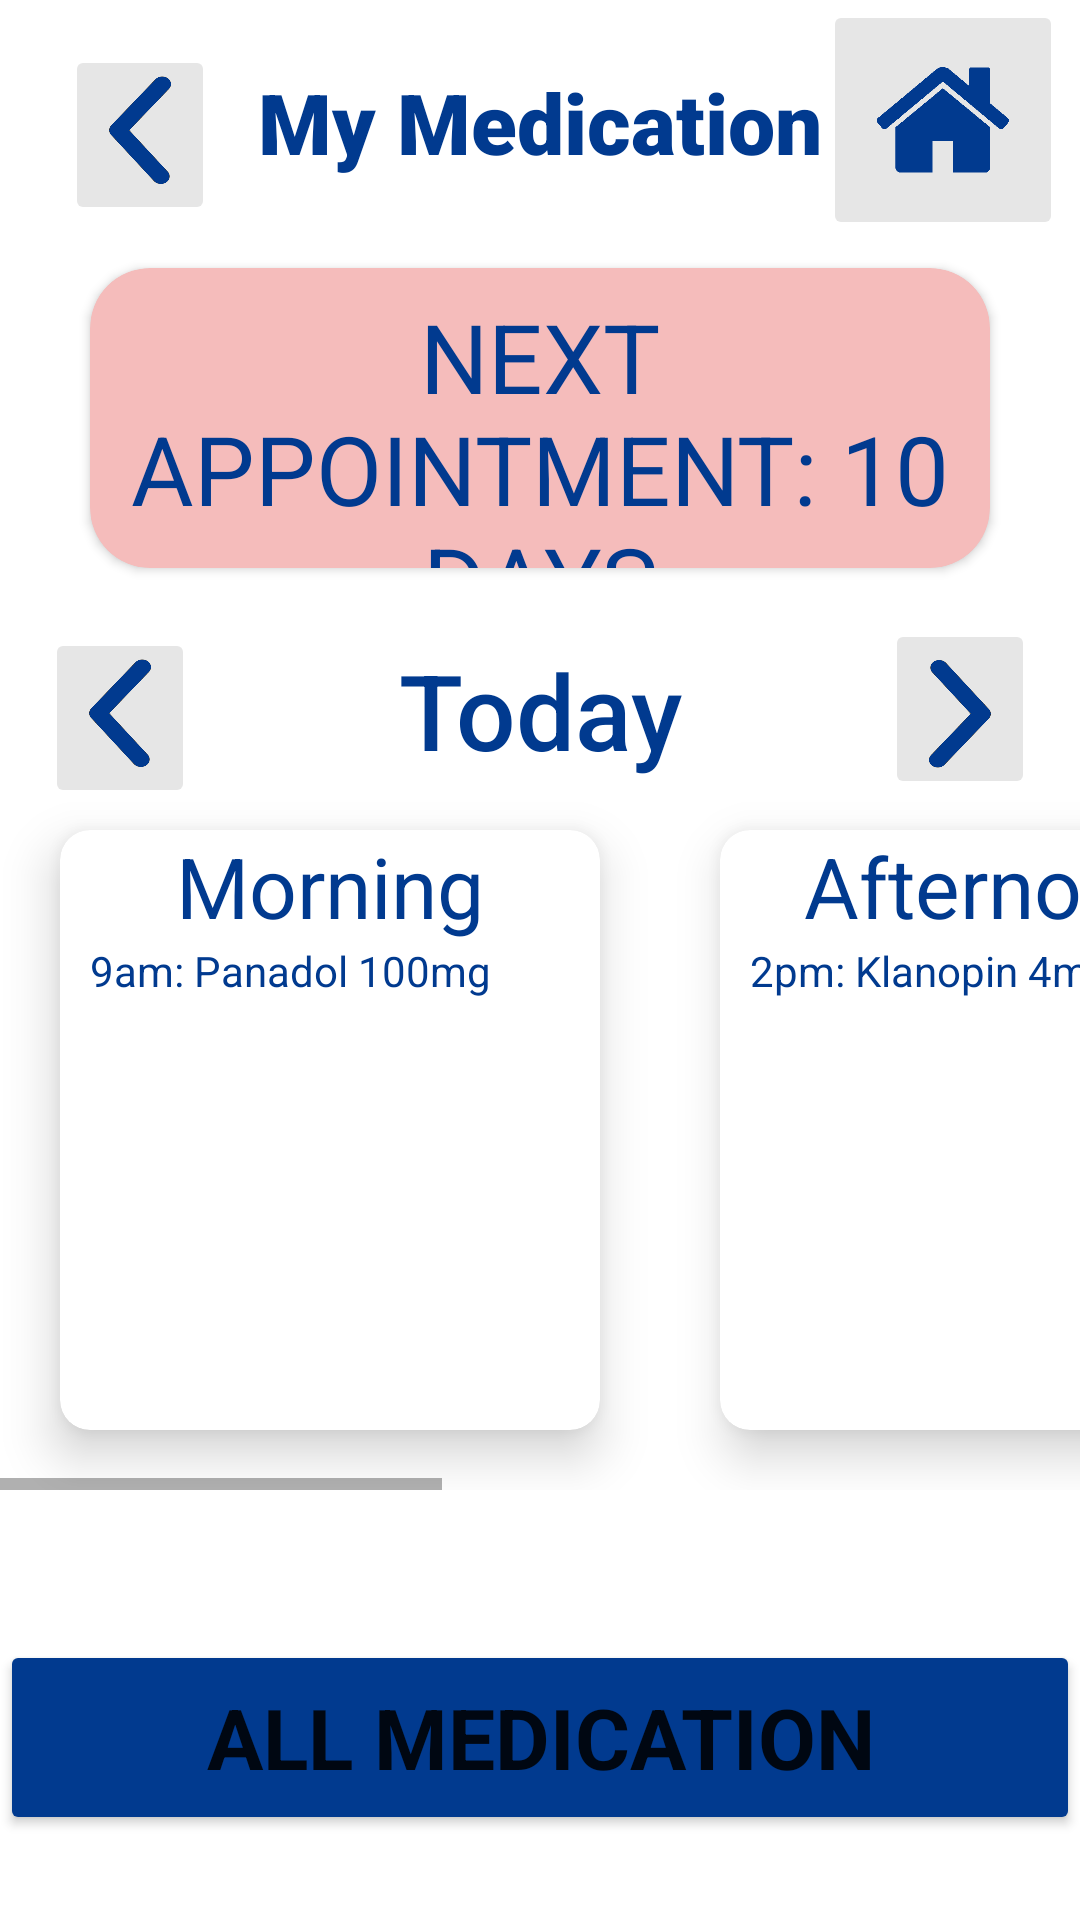

Icons on this 1080×1920 Android screen, each with its box as (x1, y1, x2, y2):
arrow: (77, 63, 203, 207), (57, 646, 183, 790)
arrownext: (897, 637, 1023, 781)
home: (835, 18, 1051, 222)
